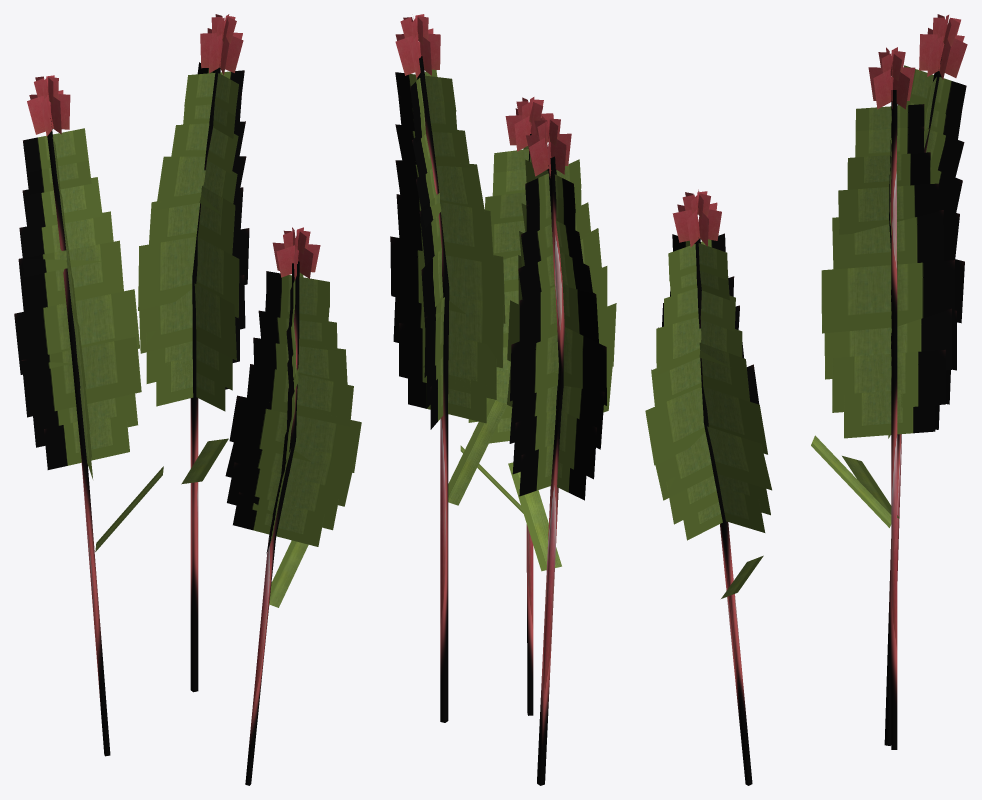
Rendered from flower_e.fbx.
3 renders of one model, left to right at view 1: azimuth 30°, elevation 25°; view 2: azimuth 150°, elevation 25°; view 3: azimuth 270°, elevation 25°, orthographic. The views are drawn at different scales.
Parts seen in each view (by area): view 1: flower_e_LOD0; view 2: flower_e_LOD0; view 3: flower_e_LOD0.
Part boxes in pixels (x1,y1,x2,y2): flower_e_LOD0: (14,14,361,785); flower_e_LOD0: (390,14,616,785); flower_e_LOD0: (645,14,967,785).
Bounding box in the file's own units: 25.27 × 77.26 × 29.86.
